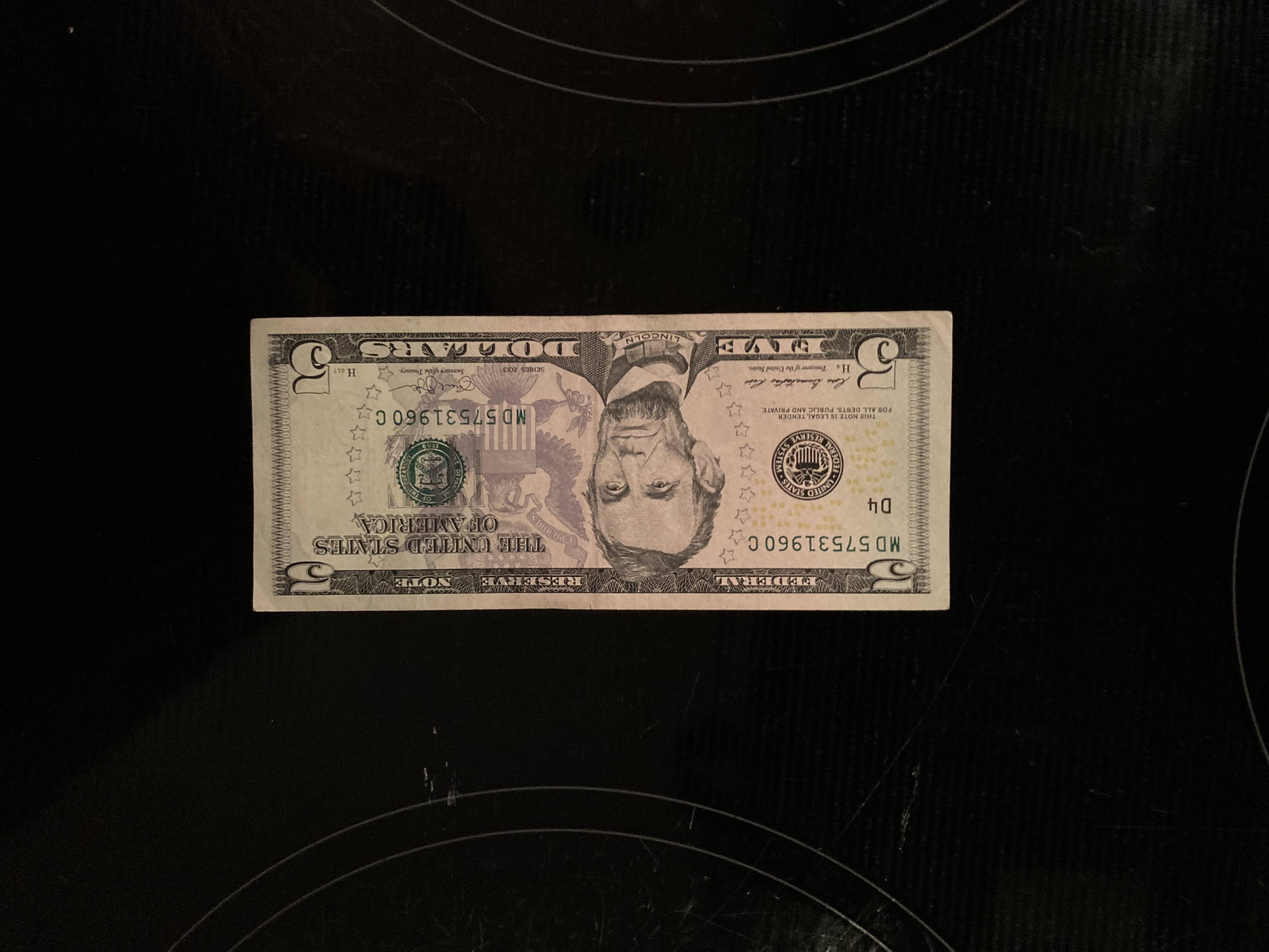five-front: (248, 309, 955, 614)
